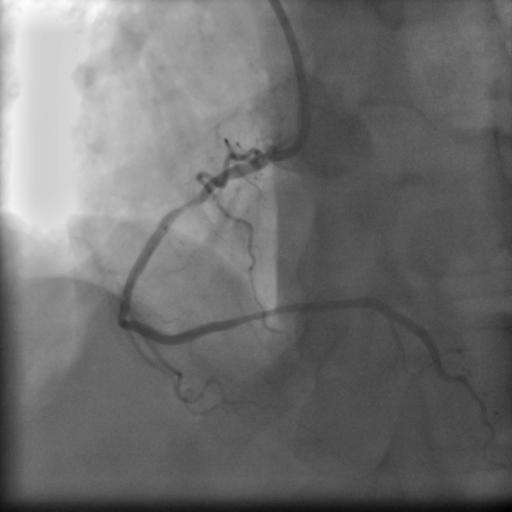Stenosis: (176, 194, 205, 213)
